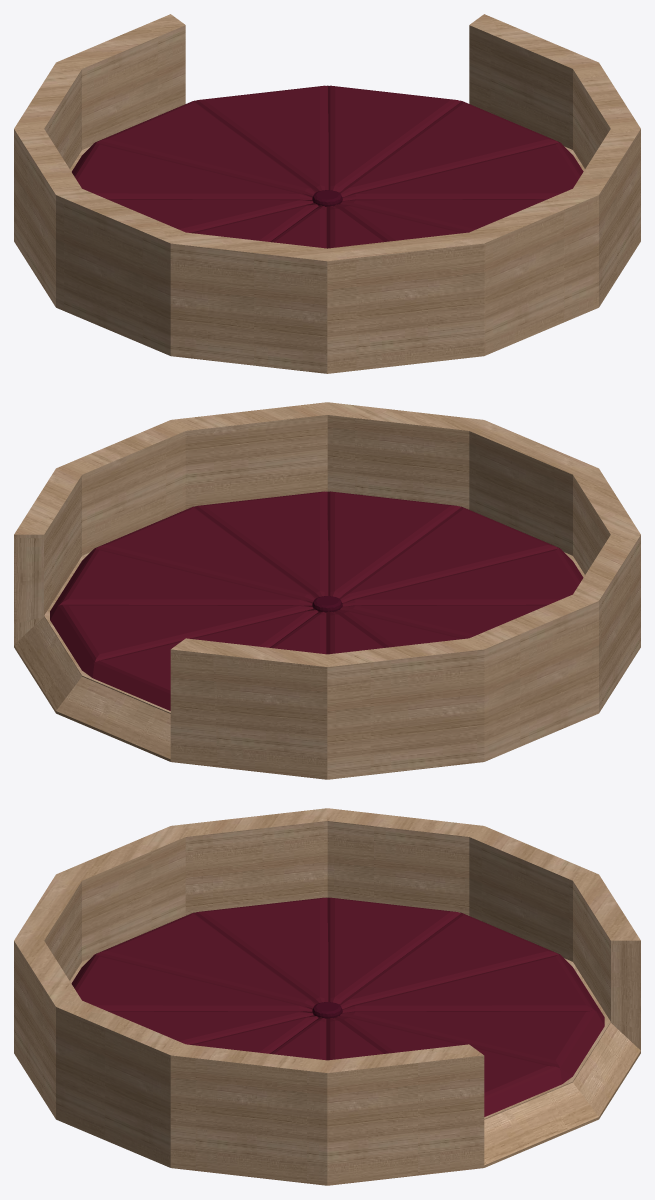
Rendered from cat bed.fbx.
3 views of the same model, one above another, from view 1: azimuth 30°, elevation 25°; view 2: azimuth 150°, elevation 25°; view 3: azimuth 270°, elevation 25° (orthographic).
Parts seen in each view (by area): view 1: Cylinder, Cylinder.002; view 2: Cylinder, Cylinder.002; view 3: Cylinder, Cylinder.002.
Boxes of the visible parts, <box> form: Cylinder: <box>14,14,640,373</box>; Cylinder.002: <box>72,85,583,248</box>; Cylinder: <box>14,402,640,779</box>; Cylinder.002: <box>50,491,583,710</box>; Cylinder: <box>14,808,640,1185</box>; Cylinder.002: <box>71,897,604,1116</box>.
Bounding box in the file's own units: 200 × 44.07 × 200.
